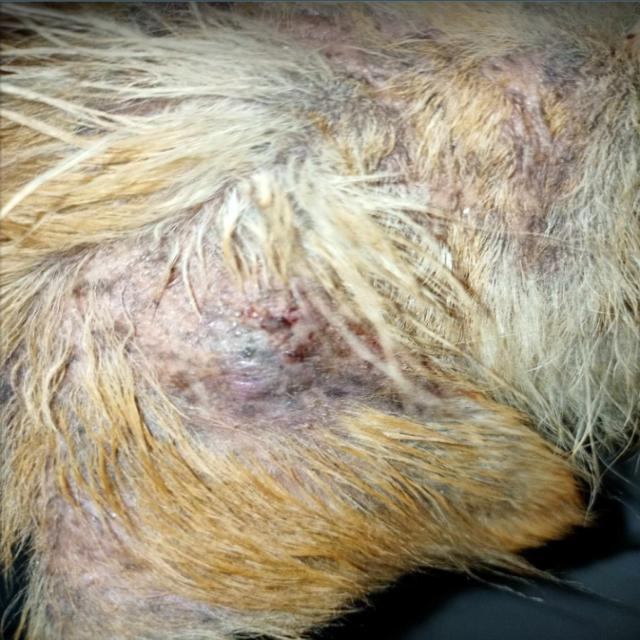demodicosis: (82, 247, 503, 450), (16, 515, 234, 630)
